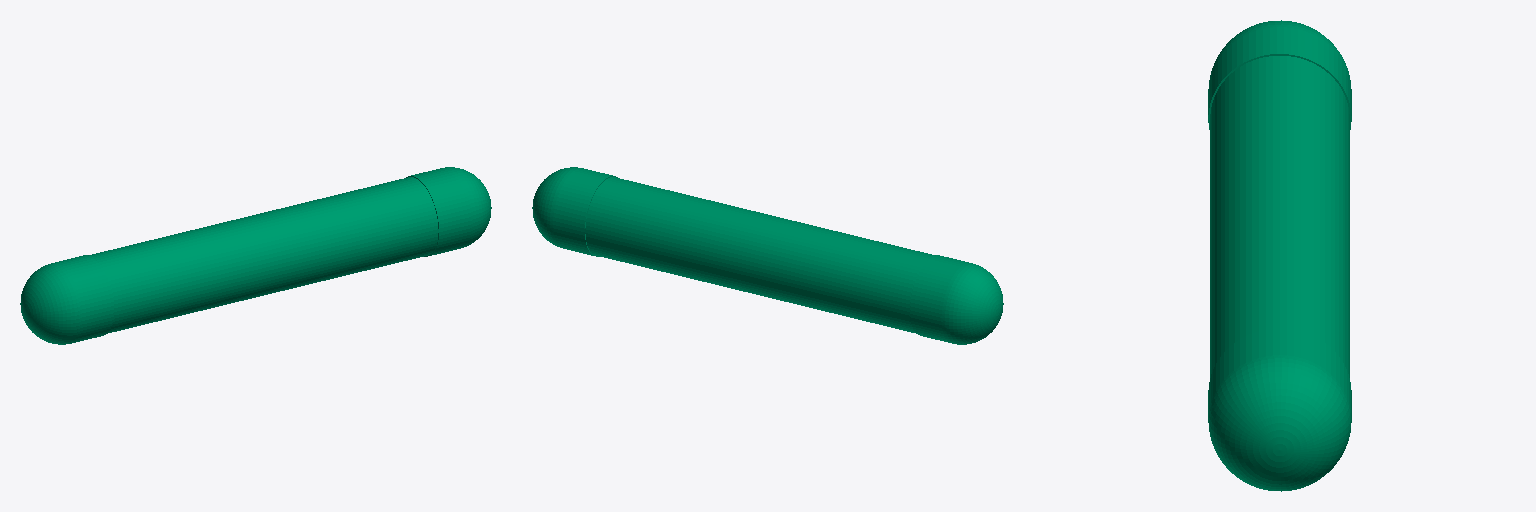
The robot description file, URDF, robot "asv_station_keeping_diag":
<?xml version='1.0' encoding='utf-8'?>
<robot name="asv_station_keeping_diag">
  <!-- Mesh-loading test only. Mounting poses are estimates, not Fusion occurrence transforms. 00_base has no visuals. -->
  <link name="base_footprint" />
  <link name="base_link">
    <inertial>
      <origin xyz="0 0 0" rpy="0 0 0" />
      <mass value="0.1" />
      <inertia ixx="0.0001" ixy="0" ixz="0" iyy="0.0001" iyz="0" izz="0.0001" />
    </inertial>
  </link>
  <link name="hull_left">
    <inertial>
      <origin xyz="0.0017543 -0.0000047 -0.0000010" rpy="0 0 0" />
      <mass value="8.7513272838" />
      <inertia ixx="0.0159438897" ixy="0" ixz="0" iyy="0.7485544942" iyz="0" izz="0.7485544942" />
    </inertial>
    <visual name="hull_left_visual">
      <origin xyz="-0.971730 0.357754 -1.641617" rpy="0 0 -1.57079632679" />
      <geometry>
        <mesh filename="package://asv_station_keeping/meshes/hull.stl" scale="0.001 0.001 0.001" />
      </geometry>
    </visual>
    <collision name="hull_left_collision">
      <geometry>
        <box size="0.724805 0.112973 0.112998" />
      </geometry>
    </collision>
  </link>
  <joint name="base_footprint_to_base_link" type="fixed">
    <parent link="base_footprint" />
    <child link="base_link" />
    <origin xyz="0 0 0" rpy="0 0 0" />
  </joint>
  <joint name="base_to_hull_left" type="fixed">
    <parent link="base_link" />
    <child link="hull_left" />
    <origin xyz="0 0.175 0.055" rpy="0 0 0" />
  </joint>
</robot>

--- What the picture shows (computed from the rendered views, not written in the file) ---
3 views of the same robot in one strip: view 1: azimuth 30°, elevation 25°; view 2: azimuth 150°, elevation 25°; view 3: azimuth 270°, elevation 25° (orthographic).
Model asv_station_keeping_diag with 3 links and 2 joints (2 fixed), rooted at base_footprint, posed every joint at zero.
Links seen in each view (by area): view 1: hull_left; view 2: hull_left; view 3: hull_left.
Link boxes in pixels (x1=…): hull_left: x1=20, y1=167, x2=491, y2=344; hull_left: x1=532, y1=167, x2=1003, y2=344; hull_left: x1=1208, y1=20, x2=1351, y2=491.
Bounding box of the posed robot: 0.7248 × 0.113 × 0.113 m (x, y, z).
Meshes: 1 distinct files referenced, 1 mesh visuals loaded (1 binary STL).
